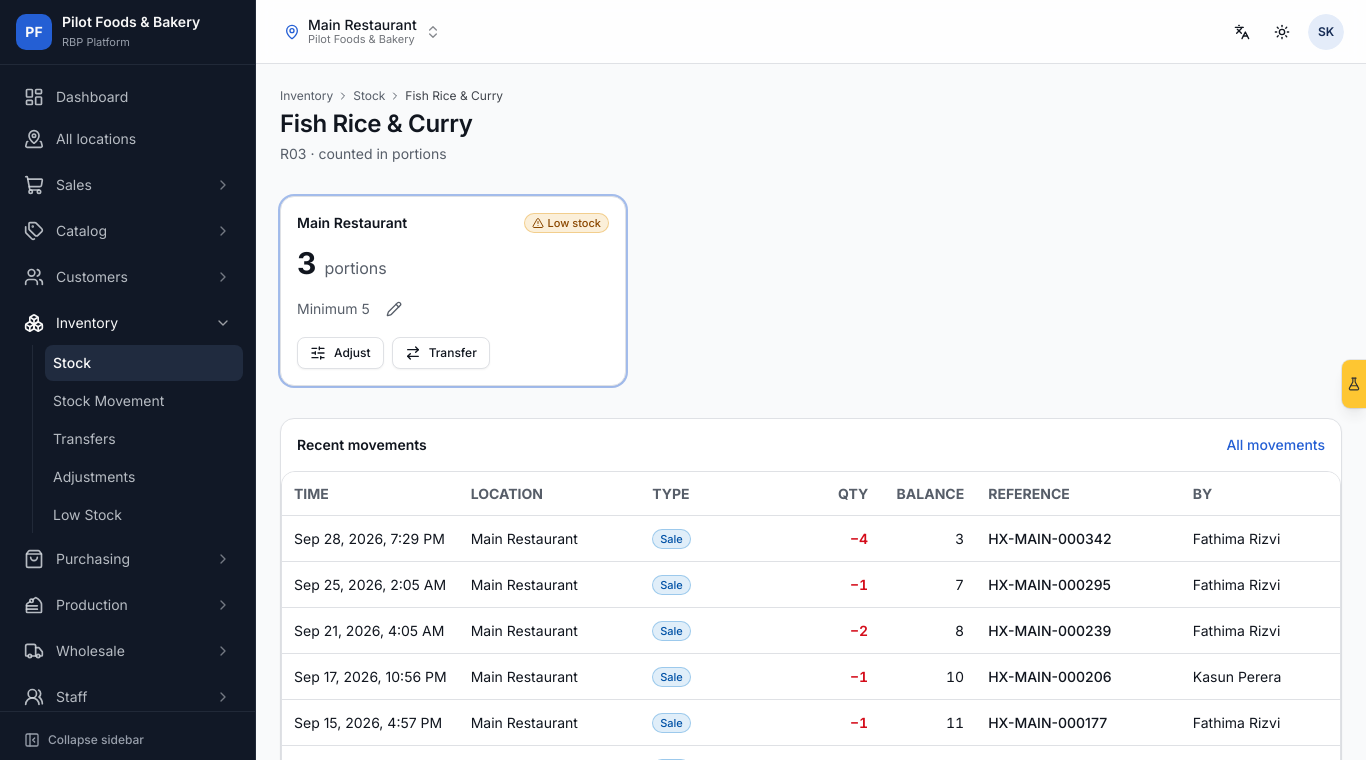
Test: INV-004 adjustment (FLOW-INV-001) › won’t take stock below zero
Click the button with aria-label "Adjust stock at Main Restaurant".
click(340, 353)  # box [297,337,384,369]
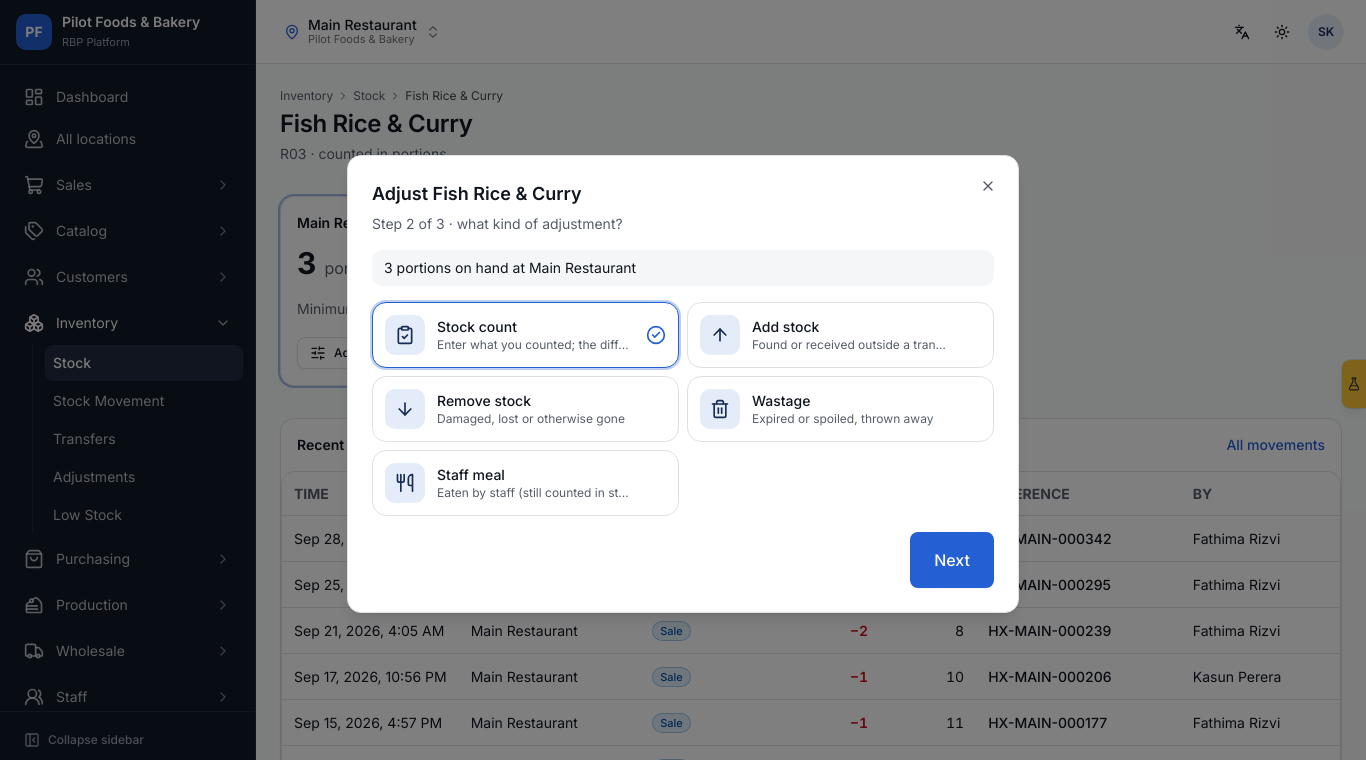
Click the radio button labelled "Remove stock Damaged, lost or otherwise gone".
click(526, 409)  # box [372,376,679,442]
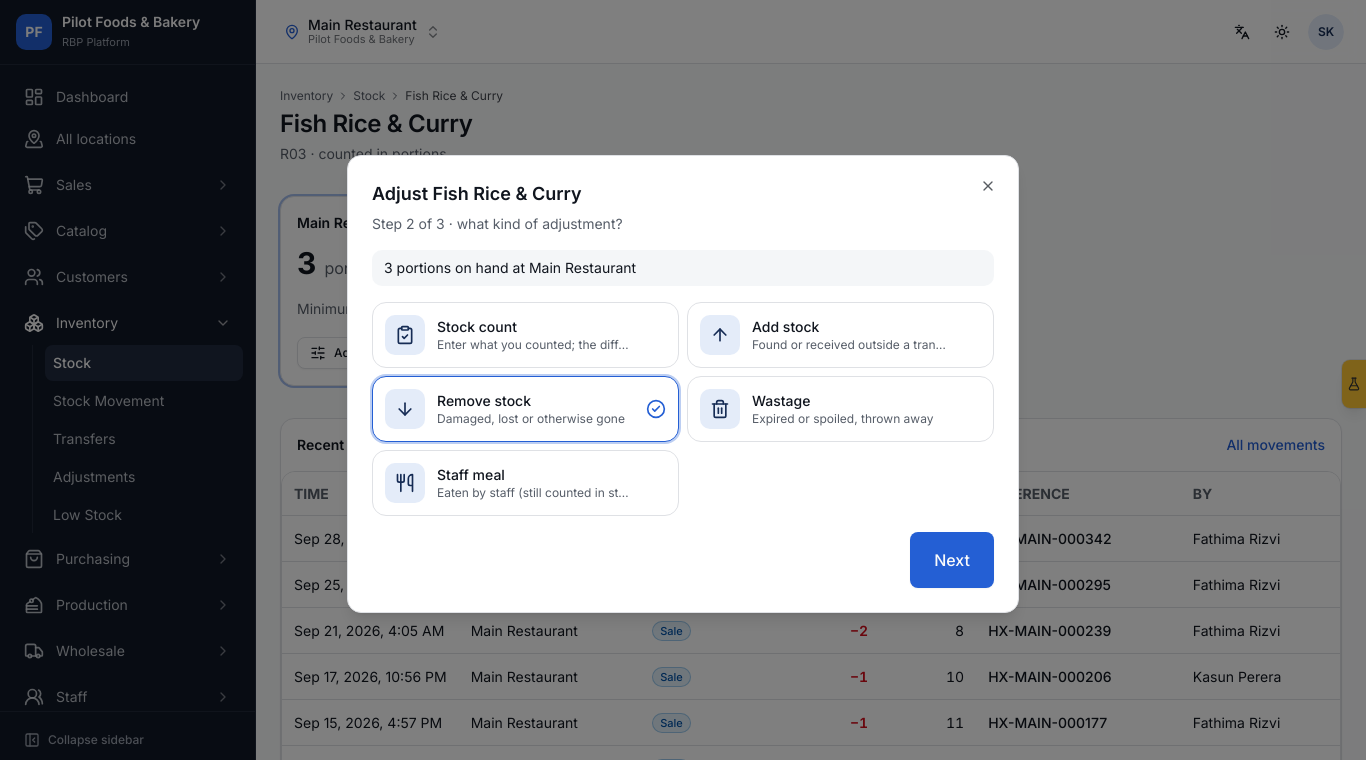
Click the button "Next".
click(952, 560)  # box [910,532,994,588]
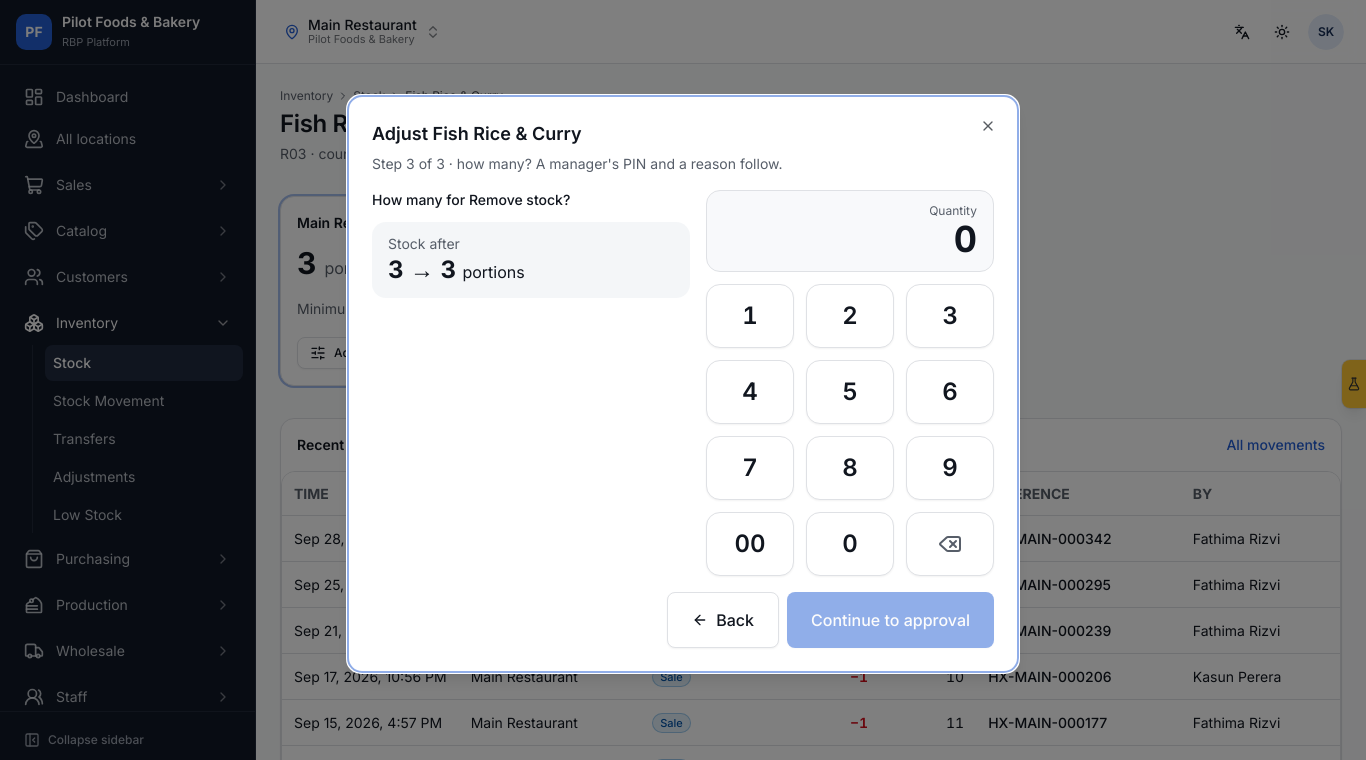
Click the button "5".
click(850, 392)  # box [806,360,894,424]
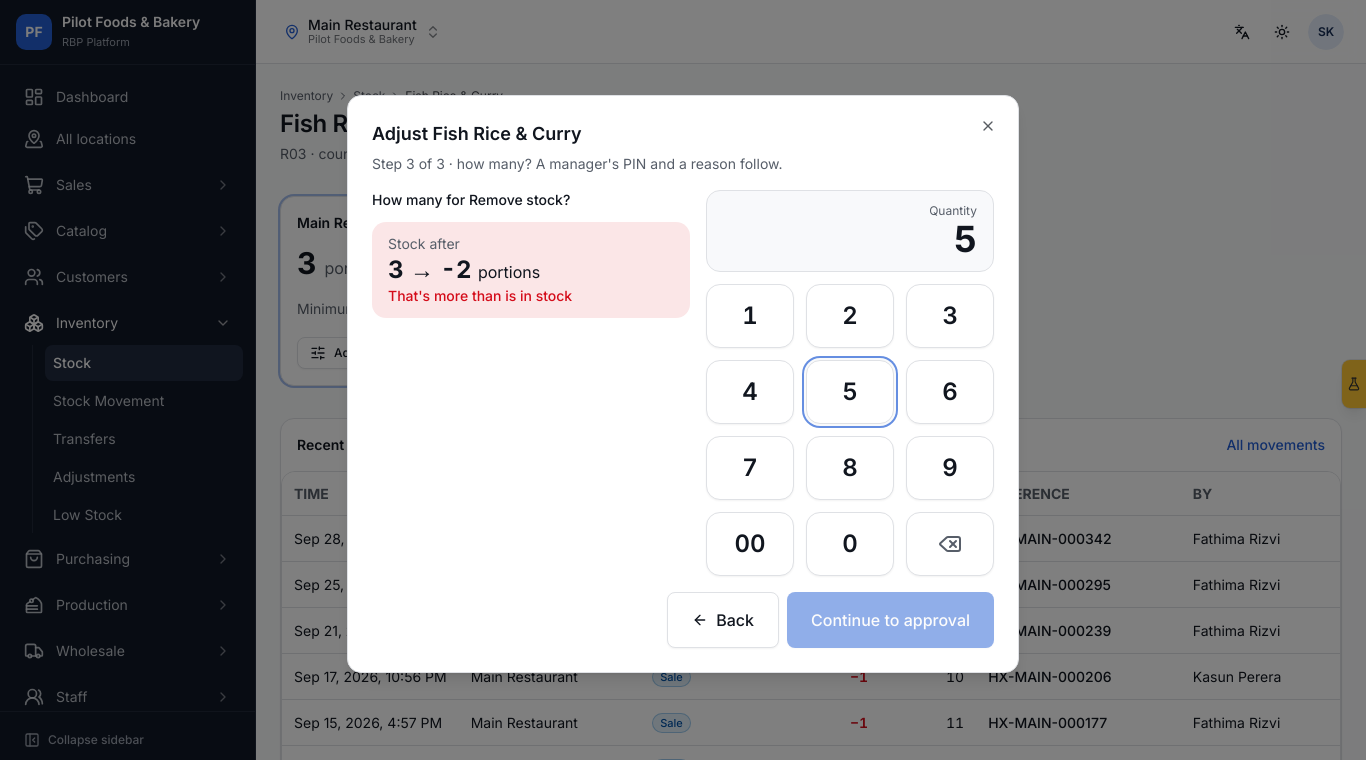
Check: the button "Continue to approval" is disabled, box [787,592,994,648]
Check: the dialog "Adjust Fish Rice & Curry" shows "That's more than is in stock", box [388,287,572,304]
